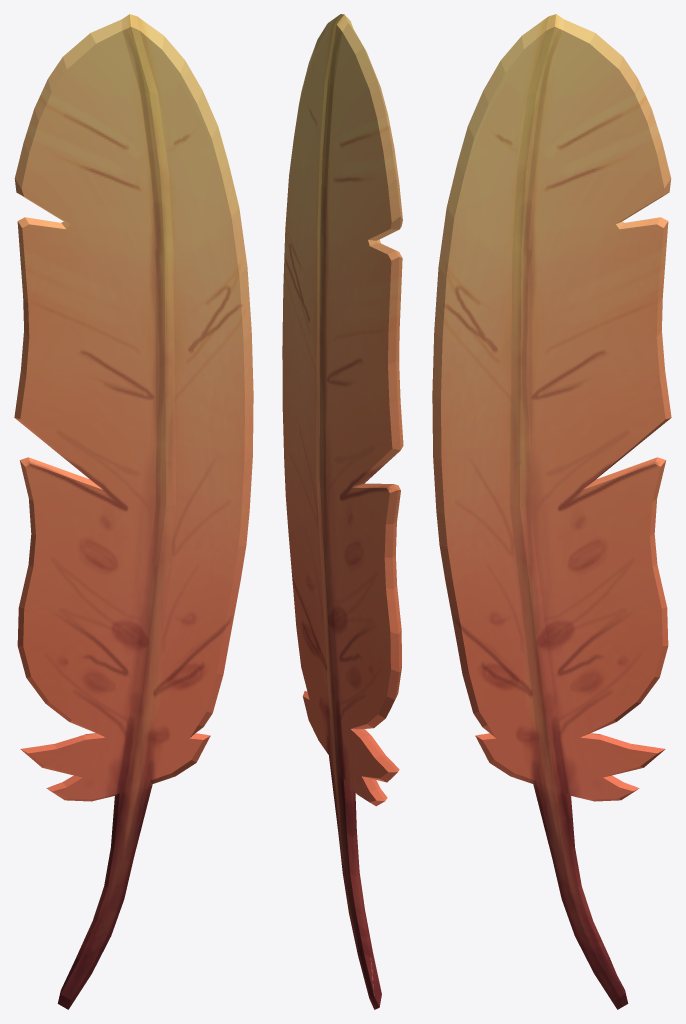
The model's file is feather.fbx.
3 views of the same model, side by side, from view 1: azimuth 90°, elevation 25°; view 2: azimuth 210°, elevation 25°; view 3: azimuth 270°, elevation 25° (orthographic). The views are drawn at different scales.
Parts seen in each view (by area): view 1: Cube; view 2: Cube; view 3: Cube.
Boxes of the visible parts, x1=… form: Cube: x1=14, y1=14, x2=253, y2=1009; Cube: x1=282, y1=14, x2=403, y2=1009; Cube: x1=432, y1=14, x2=671, y2=1009.
Size of the model in its own units: 12.07 by 804 by 175.
